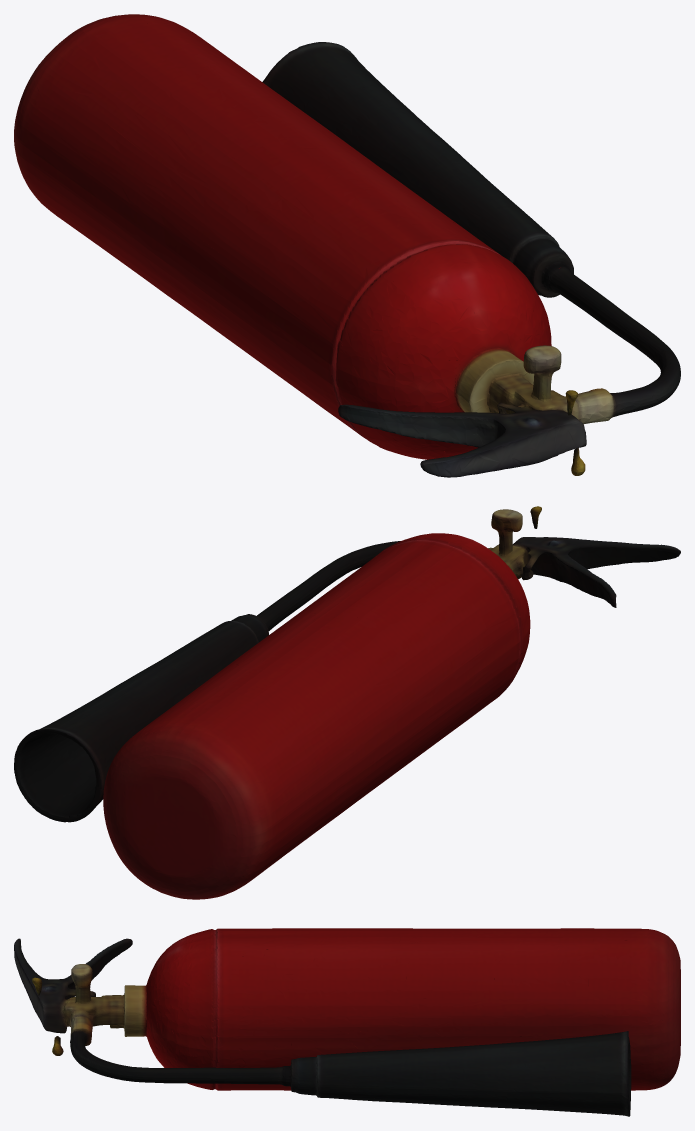
3 renders of one model, top to bottom at view 1: azimuth 30°, elevation 25°; view 2: azimuth 150°, elevation 25°; view 3: azimuth 270°, elevation 25°, orthographic. The views are drawn at different scales.
Size of the model in its own units: 0.238 by 0.1236 by 0.5174.
1 material, 1 textured.
